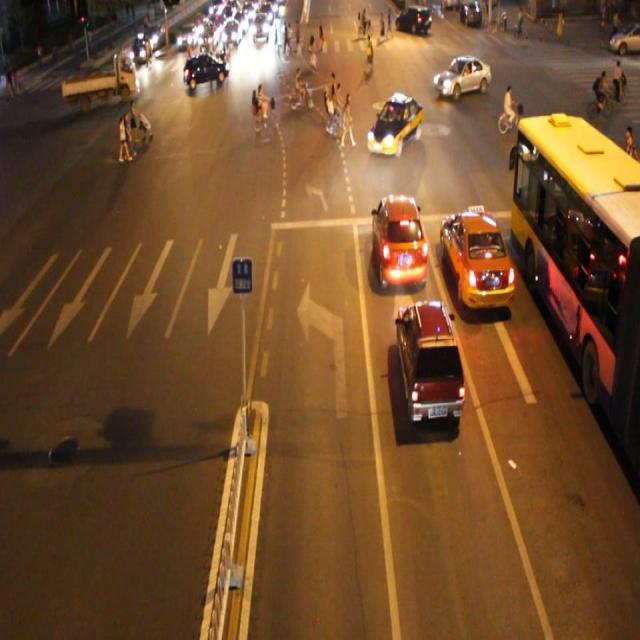bus: (63, 51, 140, 108)
car: (395, 297, 466, 422), (440, 204, 518, 308), (373, 192, 429, 288), (367, 92, 423, 156), (432, 54, 490, 99), (182, 52, 228, 90)
van: (511, 116, 640, 468)
